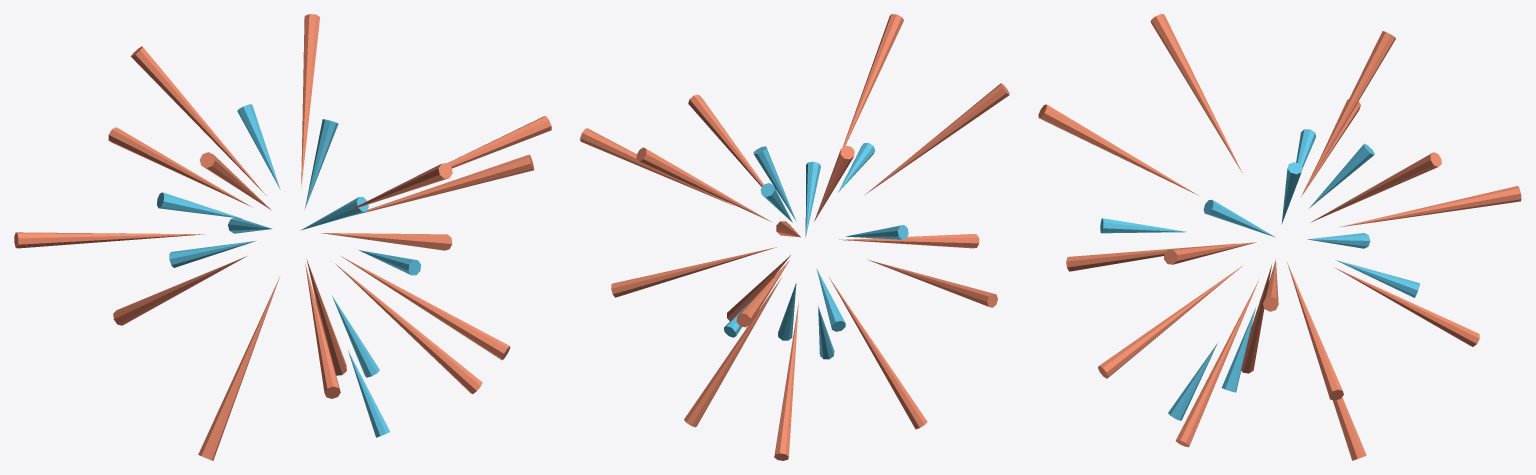
3 renders of one model, left to right at view 1: azimuth 30°, elevation 25°; view 2: azimuth 150°, elevation 25°; view 3: azimuth 270°, elevation 25°, orthographic. The views are drawn at different scales.
Visible parts, largest first — view 1: 円錐003, 円錐003_1; view 2: 円錐003, 円錐003_1; view 3: 円錐003, 円錐003_1.
Boxes of the visible parts, x1=… form: 円錐003: x1=14, y1=14, x2=551, y2=460; 円錐003_1: x1=157, y1=104, x2=420, y2=437; 円錐003: x1=580, y1=14, x2=1009, y2=460; 円錐003_1: x1=724, y1=142, x2=908, y2=359; 円錐003: x1=1038, y1=14, x2=1521, y2=460; 円錐003_1: x1=1100, y1=129, x2=1419, y2=420.
Bounding box in the file's own units: 18.76 × 13.16 × 16.71.
